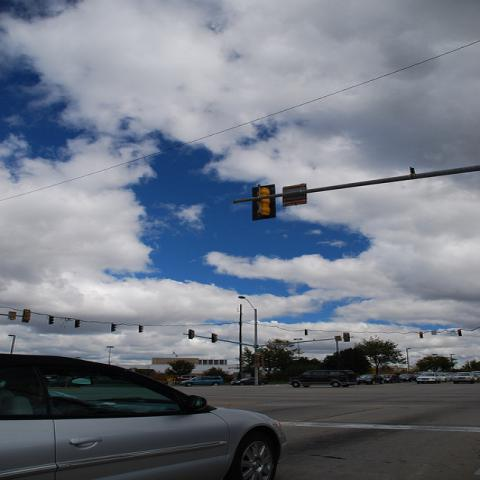car: (0, 352, 288, 480), (287, 369, 359, 389), (180, 376, 226, 387), (357, 374, 384, 386), (234, 377, 268, 386), (416, 373, 441, 384), (452, 372, 474, 384), (399, 374, 417, 383), (382, 374, 402, 382), (437, 373, 453, 383), (471, 373, 479, 382)
